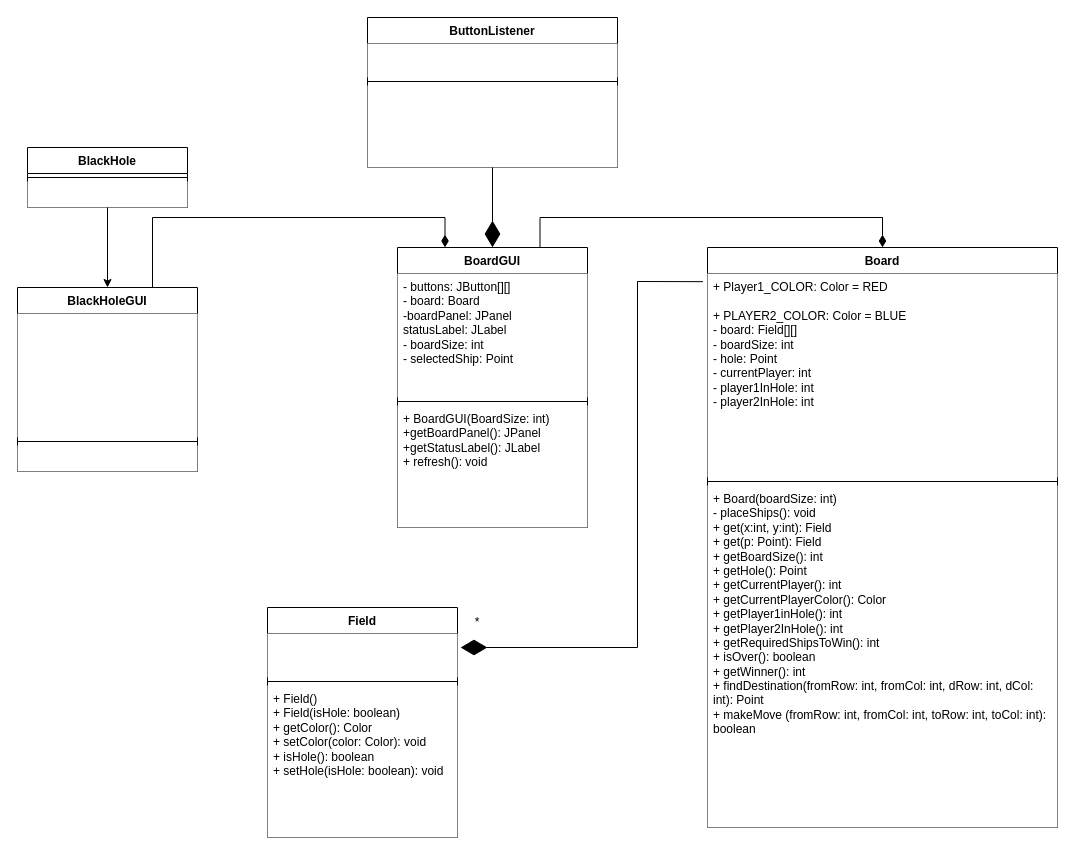
The diagram is 1075 pixels wide and 858 high, and some of its shapes have lost their labels. The shapes that lost their labels are listed below. From the top down, each one's centre as x and y in pixels, then its label:
At point (492, 60): "- x: int - y: int".
At point (492, 126): "+ ButtonListener(x: int, y: int) + actionPerformed(e: ActionEvent): void".
At point (107, 194): "+ main(): void".
At point (107, 375): "- frame: JFrame - boardGUI: BoardGUI - INITIAL_BOARD_SIZE: int=7".
At point (107, 458): "+ BlackHoleGUI()".
At point (362, 655): "- color: Color - isHole: boolean".
